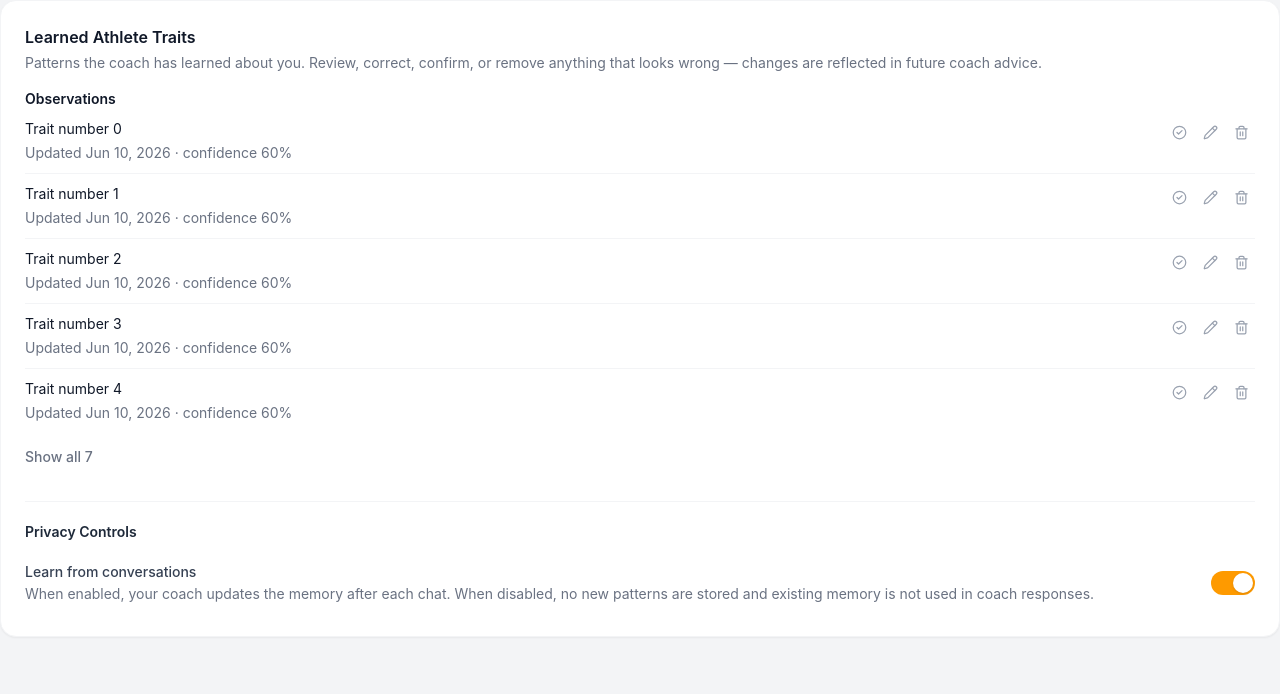
Test: AthleteTraitsSettings › shows five traits and the rest on request
This screenshot has width=1280, height=694.
expect the text "Trait number 4" is shown: met, box [25, 380, 122, 397]
expect the text "Trait number 5" is not shown: met
Step 1. Click the button "Show all 7" → x=59, y=457, box [25, 437, 93, 477]
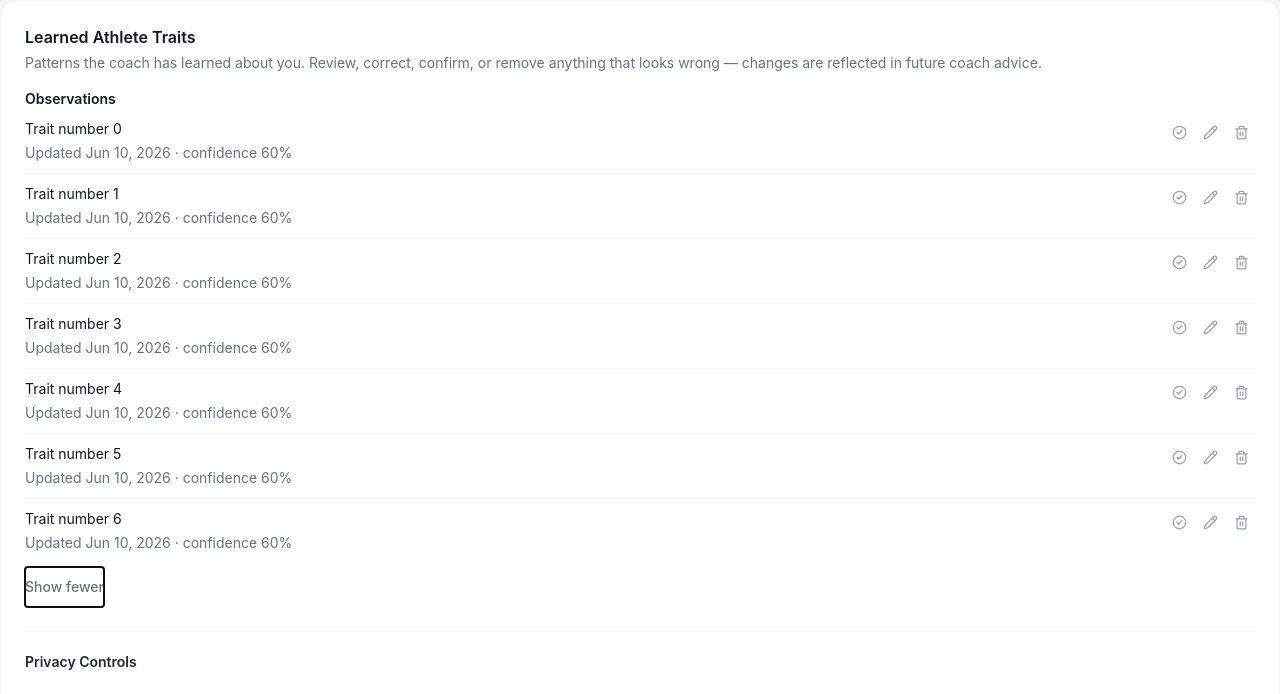
expect the text "Trait number 6" is shown: met, box [25, 510, 122, 527]
Step 2. Click the button "Show fewer" → x=64, y=587, box [25, 567, 104, 607]
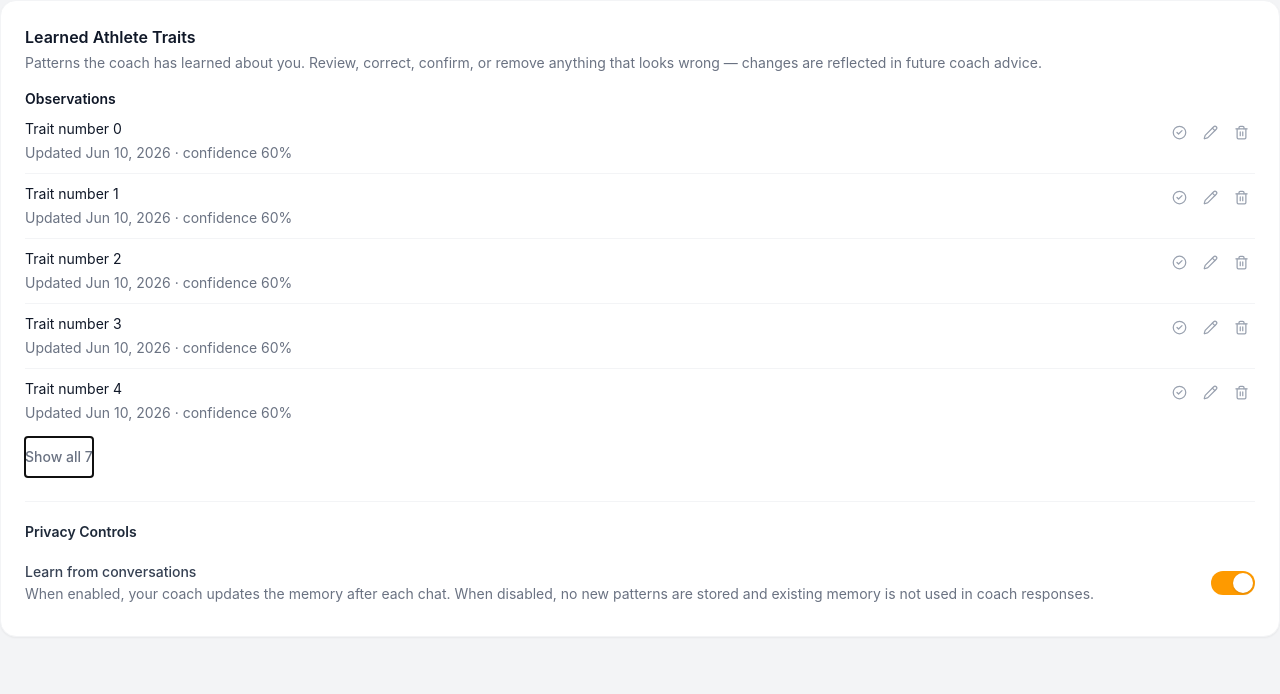
expect the text "Trait number 6" is gone: met
